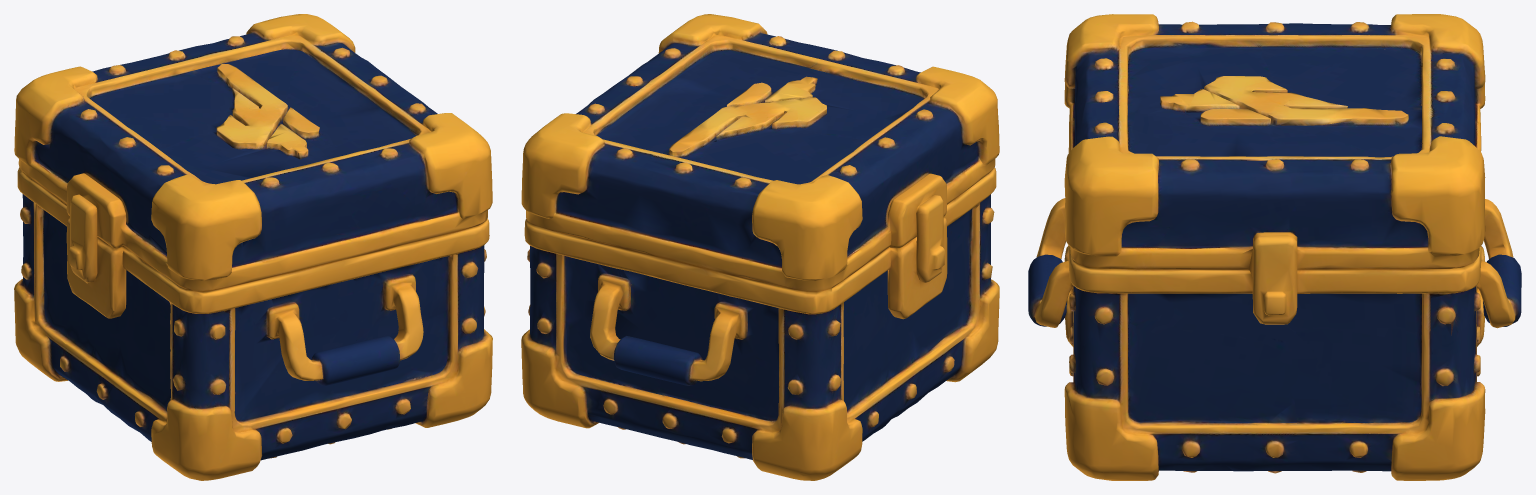
Rendered from legendary.glb.
3 renders of one model, left to right at view 1: azimuth 30°, elevation 25°; view 2: azimuth 150°, elevation 25°; view 3: azimuth 270°, elevation 25°, orthographic. The views are drawn at different scales.
Parts seen in each view (by area): view 1: tripo_node_78243b5c-3c32-4189-9133-6c7e0f236e08; view 2: tripo_node_78243b5c-3c32-4189-9133-6c7e0f236e08; view 3: tripo_node_78243b5c-3c32-4189-9133-6c7e0f236e08.
Boxes of the visible parts, x1=… form: tripo_node_78243b5c-3c32-4189-9133-6c7e0f236e08: x1=14, y1=14, x2=492, y2=480; tripo_node_78243b5c-3c32-4189-9133-6c7e0f236e08: x1=521, y1=14, x2=999, y2=480; tripo_node_78243b5c-3c32-4189-9133-6c7e0f236e08: x1=1028, y1=14, x2=1521, y2=480.
Bounding box in the file's own units: 1.3 × 1 × 1.41.
Materials: 1 (1 with a texture image).
